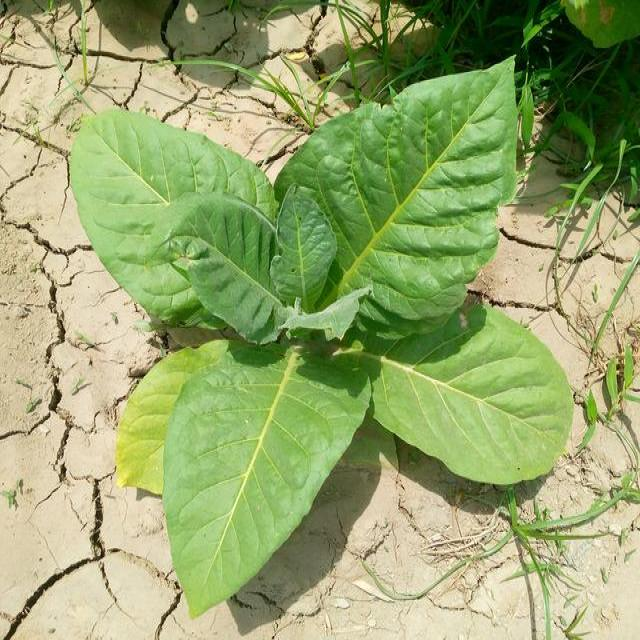crop: (72, 100, 580, 603)
